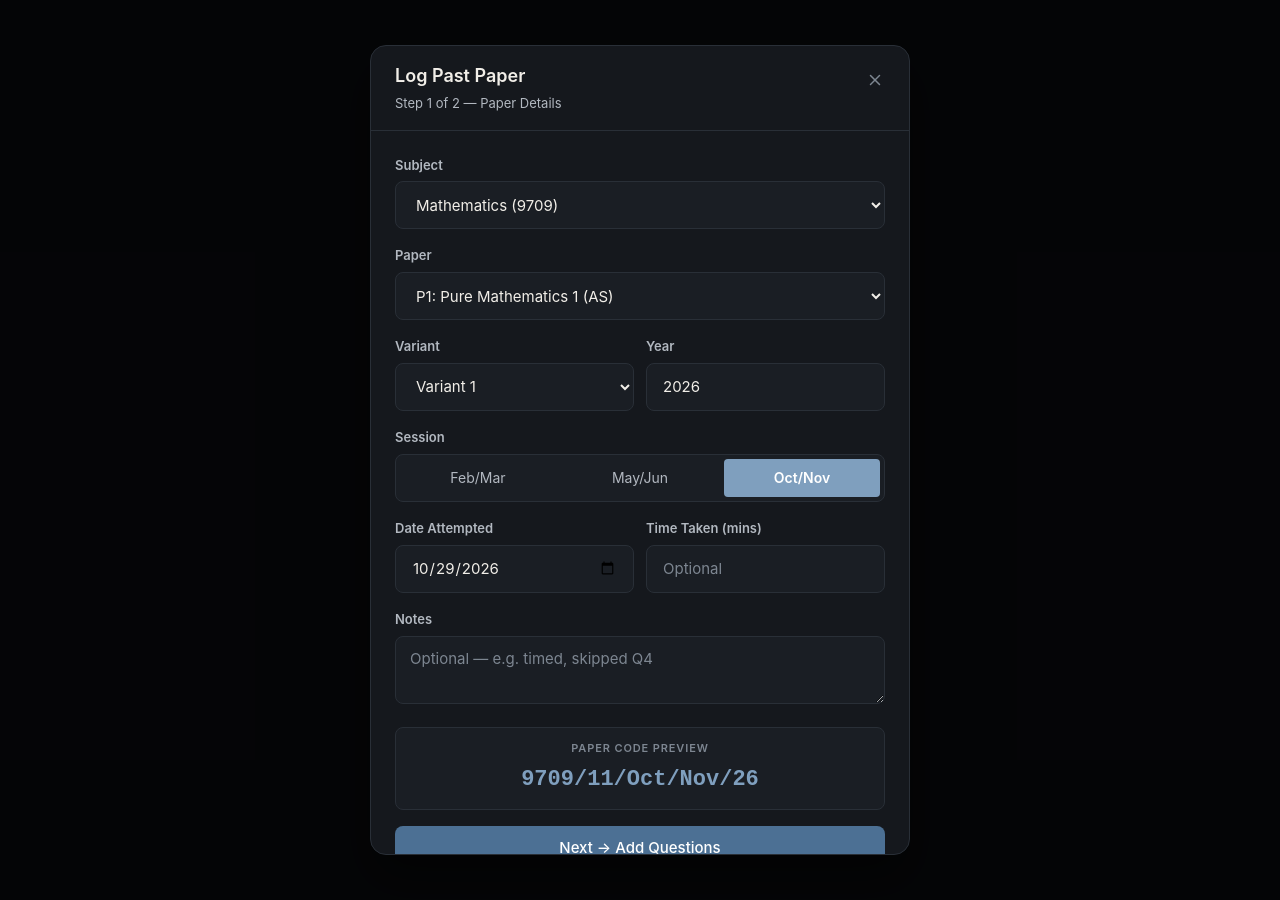
full-paper question marks (false = editing) › rejects maximum 0 without coercing or saving it
This screenshot has width=1280, height=900.
Expected: the button "Next → Add Questions" is enabled, left=395, top=826, right=885, bottom=855
Click the button "Next → Add Questions": point(640, 848) left=395, top=826, right=885, bottom=870
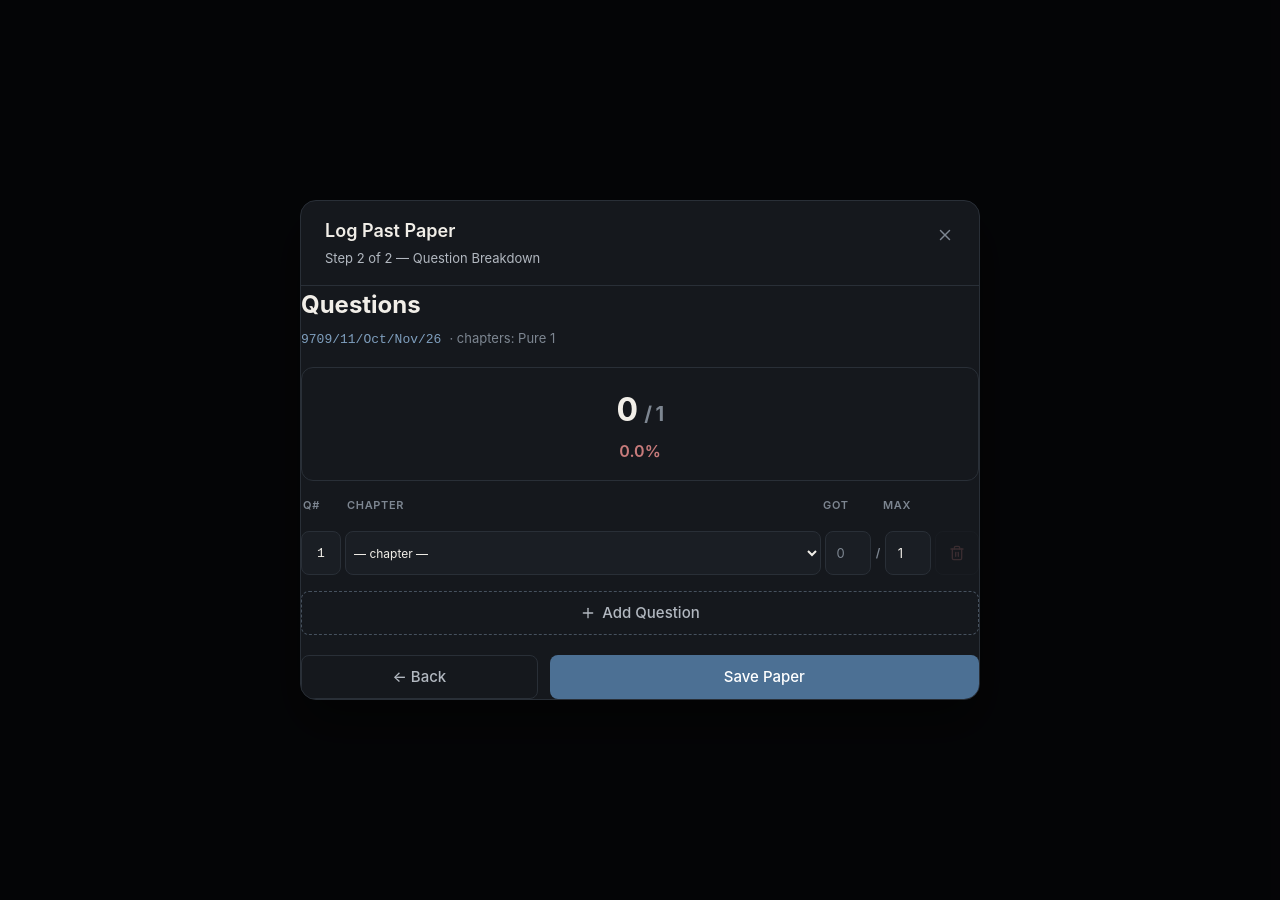
Replace the text in the number field named "Question 1 marks available" with "0": point(908, 553) left=885, top=531, right=931, bottom=575
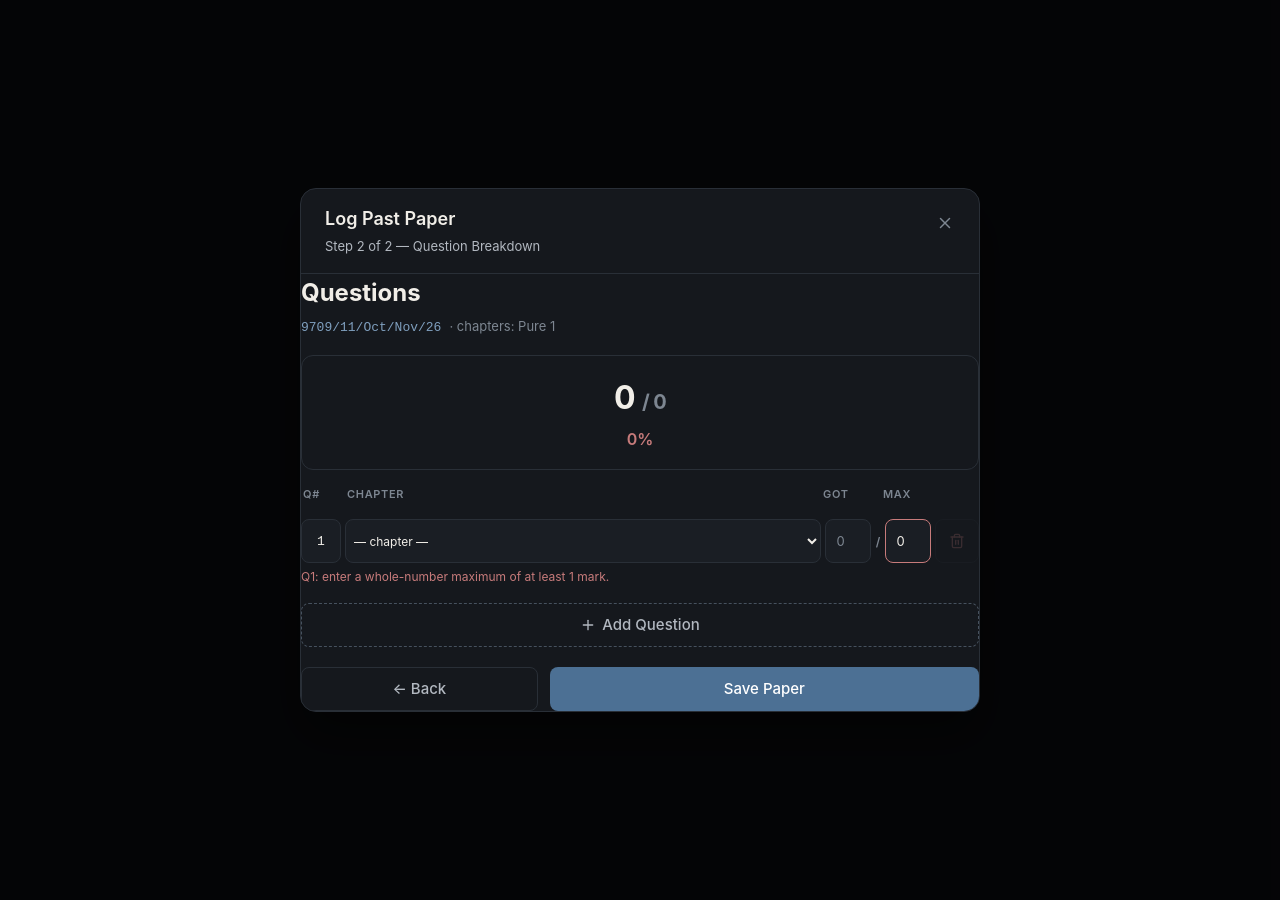
Now the number field named "Question 1 marks available" is marked as invalid, box left=885, top=520, right=931, bottom=564
Click the button "Save Paper": point(764, 689) left=550, top=667, right=979, bottom=711
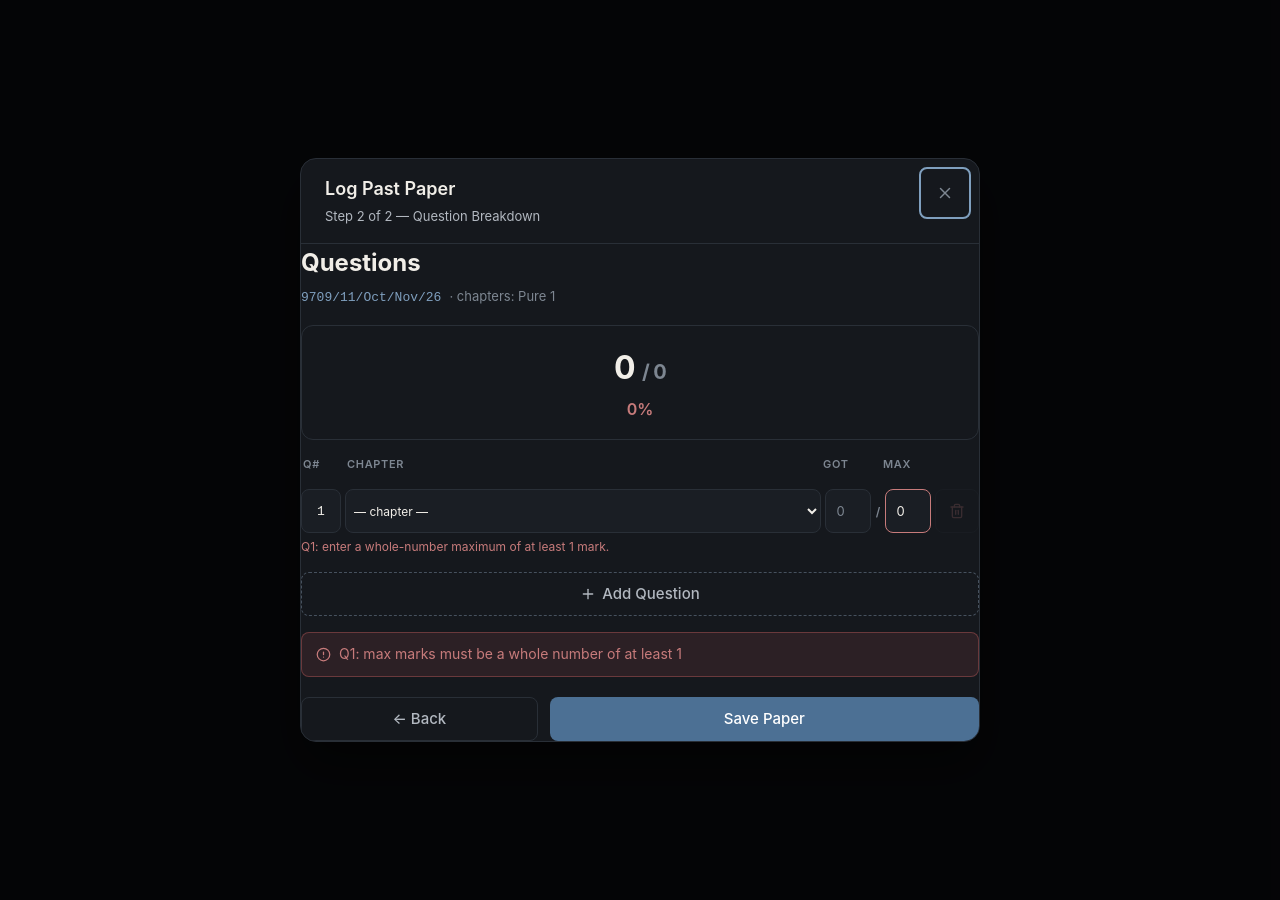
Now the message reads "Q1: max marks must be a whole number of at least 1", box left=339, top=646, right=682, bottom=662
